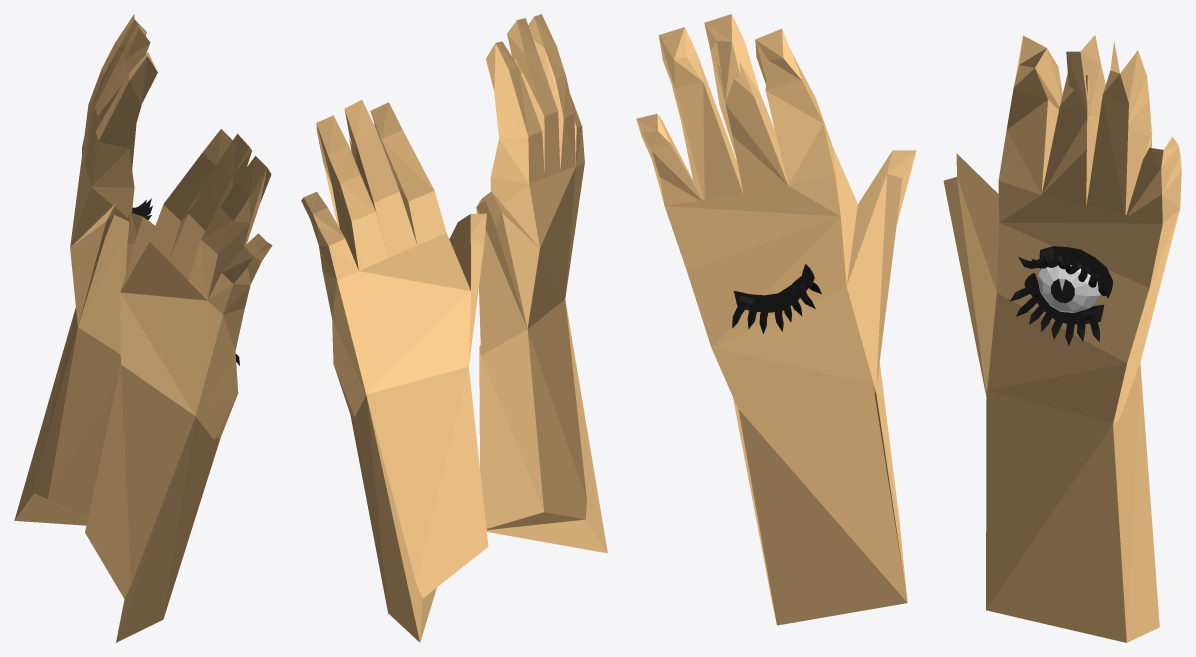
File: handeyes.glb
3 renders of one model, left to right at view 1: azimuth 30°, elevation 25°; view 2: azimuth 150°, elevation 25°; view 3: azimuth 270°, elevation 25°, orthographic. The views are drawn at different scales.
Parts seen in each view (by area): view 1: Node; view 2: Node; view 3: Node.
Part boxes in pixels (x1=…): Node: x1=14, y1=14, x2=272, y2=642; Node: x1=301, y1=14, x2=607, y2=642; Node: x1=636, y1=14, x2=1181, y2=642.
Bounding box in the file's own units: 0.3437 × 1.02 × 0.7548.
